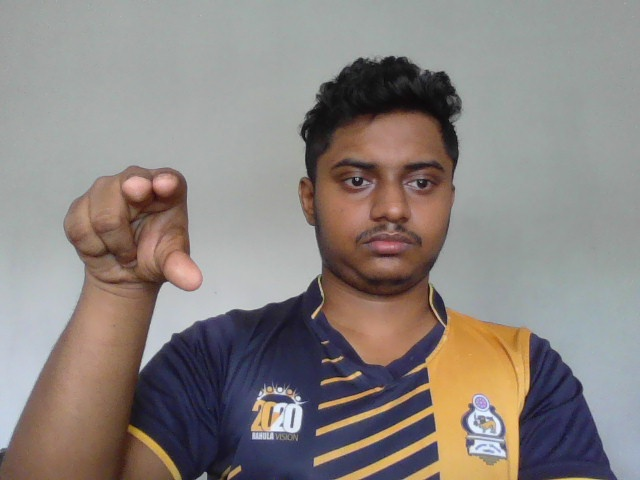No: (57, 162, 212, 292)
